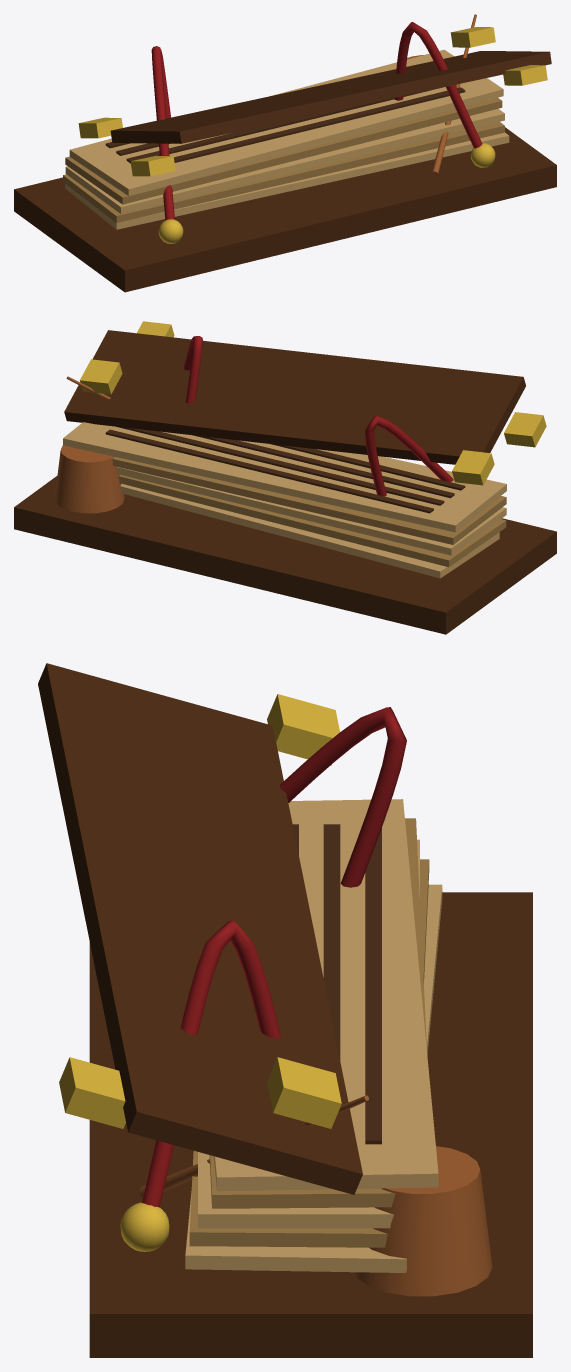
File: panchatantra-manuscripts.glb
3 views of the same model, one above another, from view 1: azimuth 30°, elevation 25°; view 2: azimuth 150°, elevation 25°; view 3: azimuth 270°, elevation 25° (orthographic). The views are drawn at different scales.
Visible parts, largest first — view 1: manuscript-plinth, teak-top-cover, five-palm-leaf-5, five-palm-leaf-3, five-palm-leaf-2, five-palm-leaf-4, five-palm-leaf-1, sanskrit-line-3, binding-cord-1, binding-cord-0, sanskrit-line-2, bracket-0-1 (+6 smaller); view 2: teak-top-cover, manuscript-plinth, five-palm-leaf-5, five-palm-leaf-4, five-palm-leaf-2, five-palm-leaf-1, five-palm-leaf-3, brass-inkpot, sanskrit-line-0, sanskrit-line-1, binding-cord-0, sanskrit-line-2 (+6 smaller); view 3: teak-top-cover, manuscript-plinth, five-palm-leaf-5, brass-inkpot, five-palm-leaf-1, binding-cord-0, binding-cord-1, five-palm-leaf-4, five-palm-leaf-2, sanskrit-line-0, five-palm-leaf-3, bracket-1-0 (+4 smaller).
Part boxes in pixels (bbox=[...]): manuscript-plinth: bbox=[14, 127, 556, 292]; teak-top-cover: bbox=[110, 51, 551, 143]; five-palm-leaf-5: bbox=[69, 49, 503, 195]; five-palm-leaf-3: bbox=[65, 108, 504, 213]; five-palm-leaf-2: bbox=[63, 122, 504, 222]; five-palm-leaf-4: bbox=[65, 97, 502, 204]; five-palm-leaf-1: bbox=[65, 132, 509, 229]; sanskrit-line-3: bbox=[174, 87, 465, 162]; binding-cord-1: bbox=[394, 22, 482, 148]; binding-cord-0: bbox=[151, 46, 174, 220]; sanskrit-line-2: bbox=[126, 88, 438, 163]; bracket-0-1: bbox=[130, 155, 175, 176]; teak-top-cover: bbox=[64, 330, 525, 464]; manuscript-plinth: bbox=[14, 475, 556, 634]; five-palm-leaf-5: bbox=[63, 422, 506, 532]; five-palm-leaf-4: bbox=[112, 457, 506, 544]; five-palm-leaf-2: bbox=[119, 475, 506, 567]; five-palm-leaf-1: bbox=[120, 484, 499, 578]; five-palm-leaf-3: bbox=[116, 466, 506, 555]; brass-inkpot: bbox=[54, 445, 124, 513]; sanskrit-line-0: bbox=[105, 429, 433, 513]; sanskrit-line-1: bbox=[116, 426, 444, 505]; binding-cord-0: bbox=[365, 416, 453, 496]; sanskrit-line-2: bbox=[193, 435, 454, 498]; teak-top-cover: bbox=[38, 663, 362, 1194]; manuscript-plinth: bbox=[89, 892, 532, 1357]; five-palm-leaf-5: bbox=[213, 799, 438, 1191]; brass-inkpot: bbox=[354, 1146, 492, 1296]; five-palm-leaf-1: bbox=[185, 884, 442, 1272]; binding-cord-0: bbox=[280, 707, 406, 887]; binding-cord-1: bbox=[142, 919, 280, 1207]; five-palm-leaf-4: bbox=[209, 818, 426, 1208]; five-palm-leaf-2: bbox=[189, 859, 429, 1247]; sanskrit-line-0: bbox=[365, 828, 381, 1144]; five-palm-leaf-3: bbox=[198, 839, 419, 1228]; bracket-1-0: bbox=[267, 1057, 341, 1128].
Size of the model in its own units: 0.92 by 0.3344 by 0.4514.
